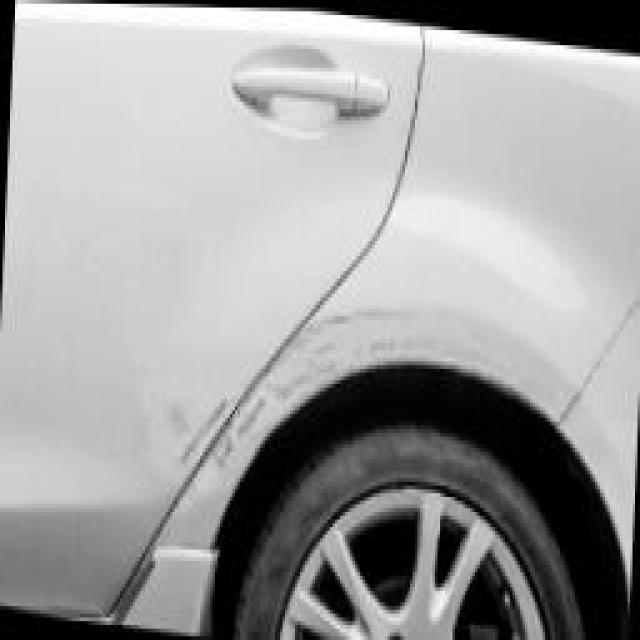Fender: (258, 297, 560, 509)
